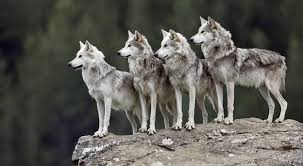Lobo: (188, 14, 289, 131), (56, 33, 132, 133), (153, 27, 202, 129), (112, 32, 162, 129)
